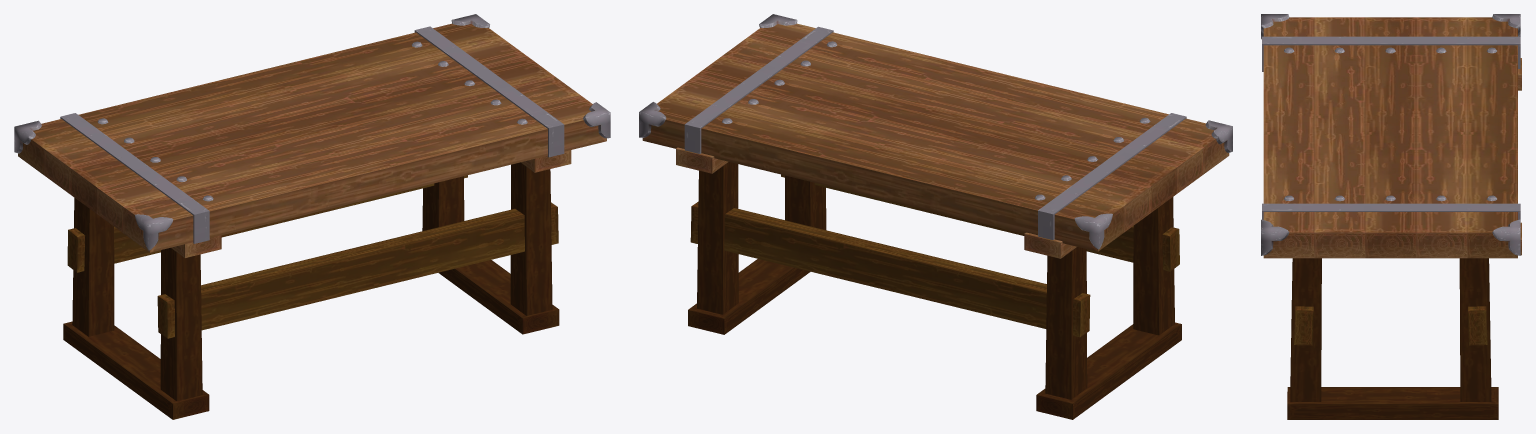
The model's file is prop_workbench.glb.
The picture shows the model from 3 angles, left to right: view 1: azimuth 30°, elevation 25°; view 2: azimuth 150°, elevation 25°; view 3: azimuth 270°, elevation 25°; orthographic projection. The views are drawn at different scales.
Visible parts, largest first — view 1: Workbench; view 2: Workbench; view 3: Workbench.
Boxes of the visible parts, box(x1,y1,x2,y2) form: Workbench: box(14, 14, 610, 419); Workbench: box(639, 14, 1232, 419); Workbench: box(1261, 14, 1521, 419).
Bounding box in the file's own units: 2.02 × 0.8946 × 1.02.
Materials: 2 (2 with a texture image).
